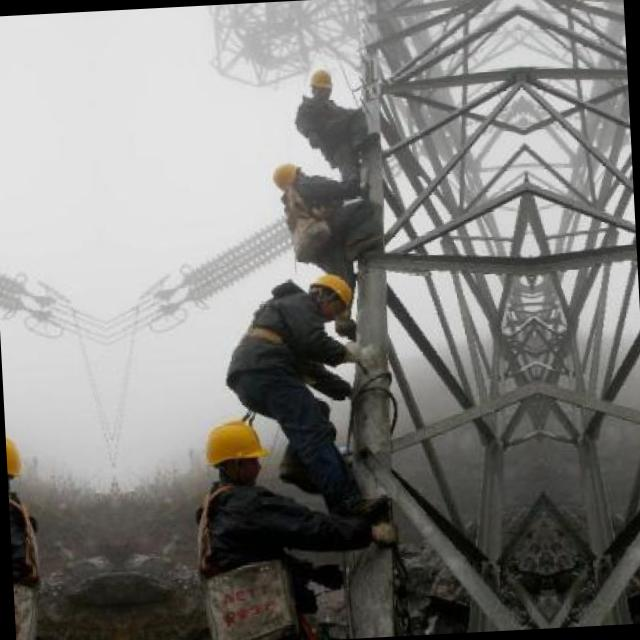helmet: (194, 409, 270, 488), (300, 266, 356, 321), (5, 422, 32, 499), (273, 160, 312, 193), (303, 61, 334, 99)
